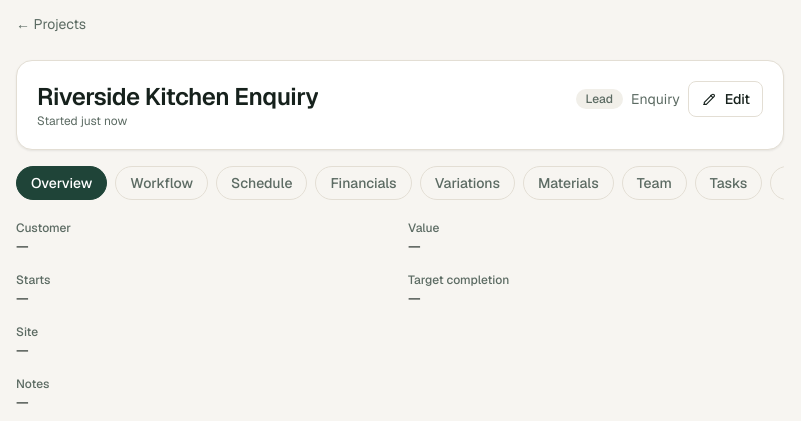
Test case: ProjectDetailPage — team assignment (Sprint 023) › keeps_the_previous_assignment_and_shows_an_error_when_assignment_fails
Click the tab "Team": x=654, y=183 [622,166,687,200]
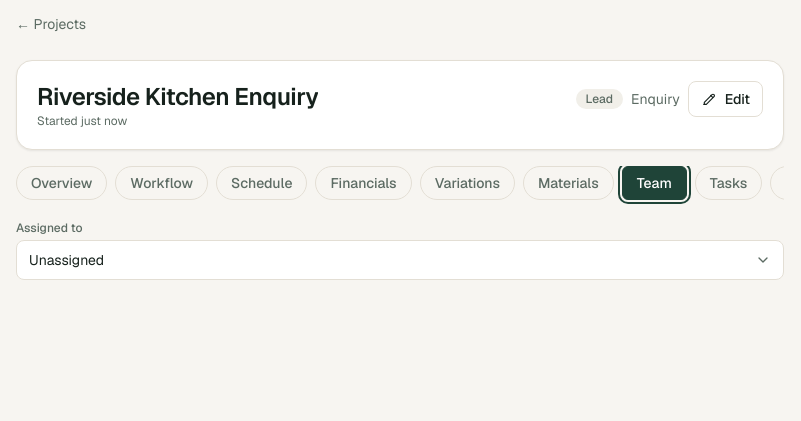
Select "Jordan Staff" in the dropdown named "assigned to": x=400, y=260 [16,240,784,280]
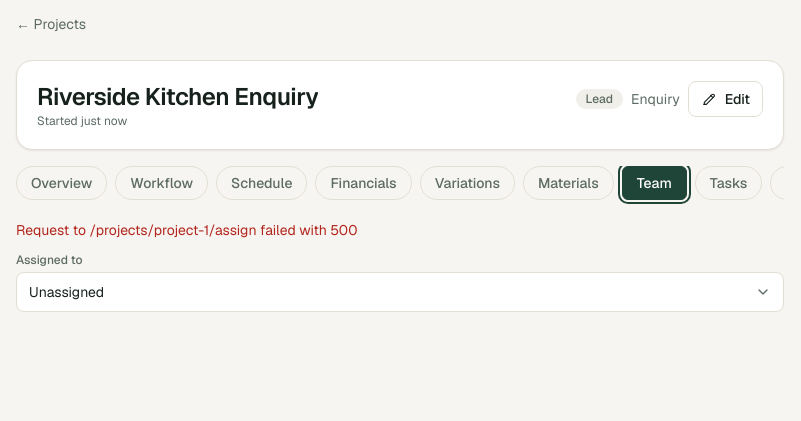
Result: the dropdown named "assigned to" is enabled at [16,272,784,312]
Result: the text "Request to /projects/project-1/assign failed with 500" is shown at [16,221,358,239]
